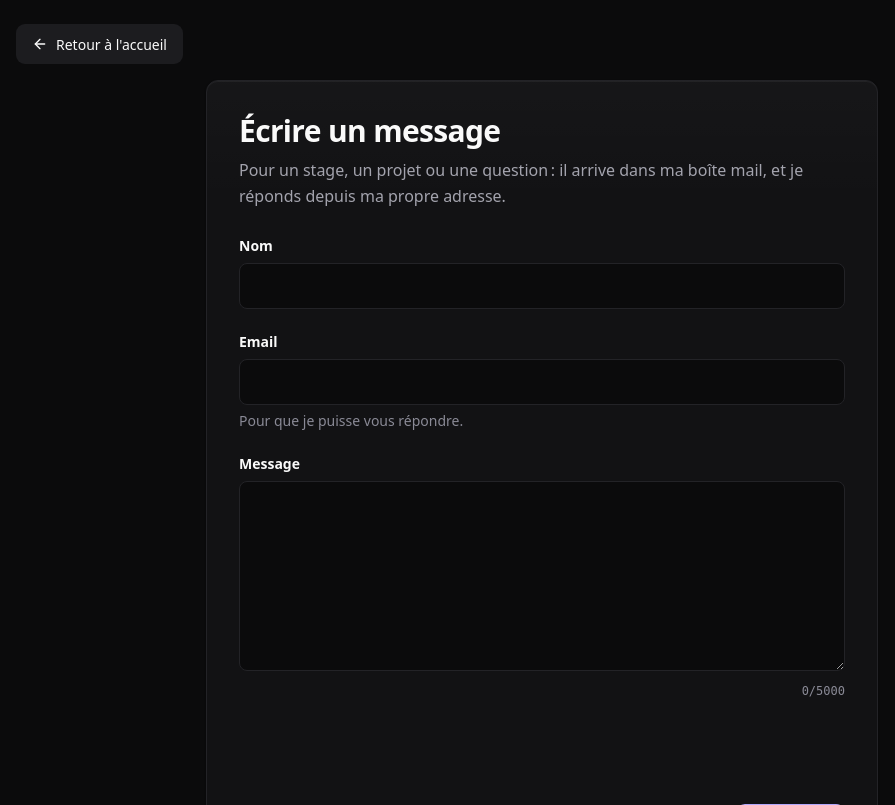
Test: ContactPage › propose l'adresse email quand l'envoi échoue
Type "Ada Lovelace" into the field labelled "Nom" at (542, 286), box [239,263,845,309]
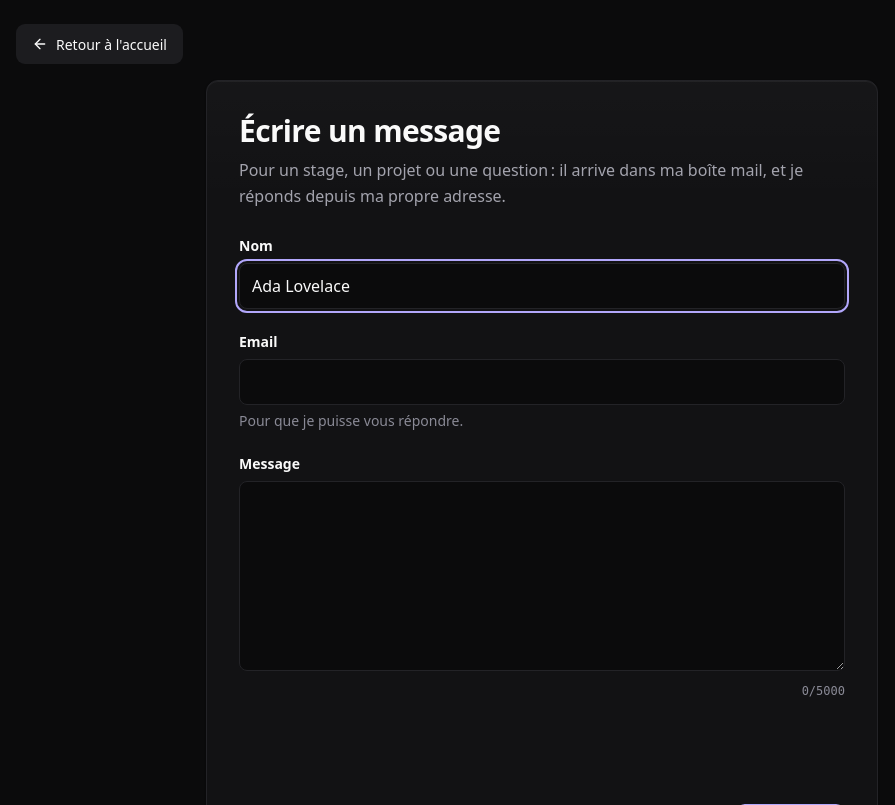
Type "ada@example.com" into the field labelled "Email" at (542, 382), box [239,359,845,405]
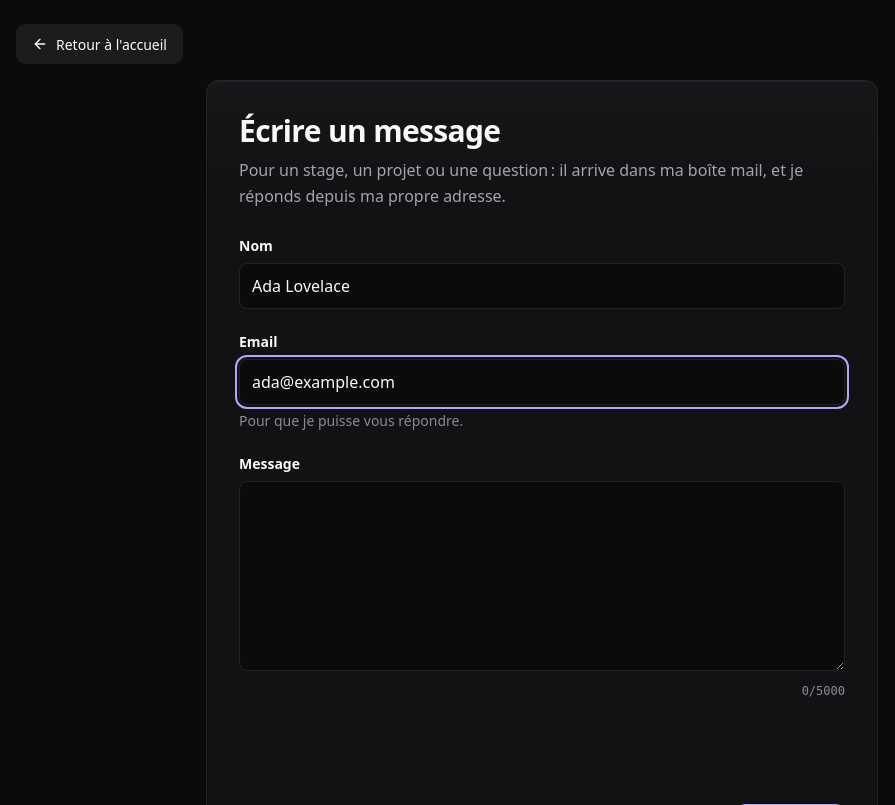
Type "Bonjour, parlons d'un stage en janvier." into the text box labelled "Message" at (542, 576), box [239,481,845,671]
(page scrolled)
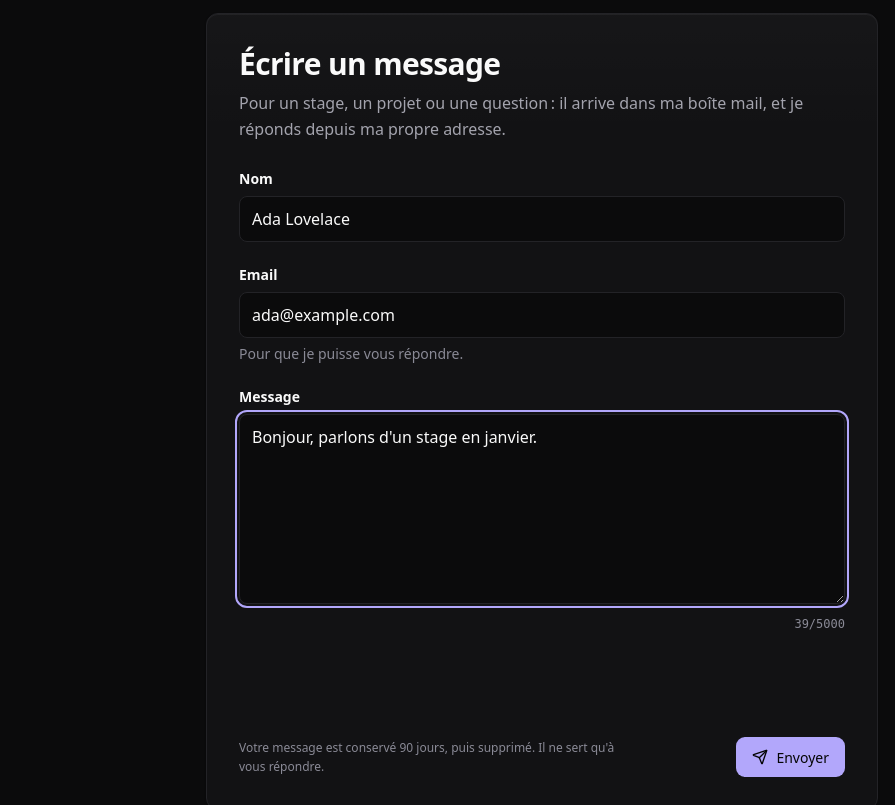
Click the button "Envoyer" at (791, 757), box [736,737,845,777]
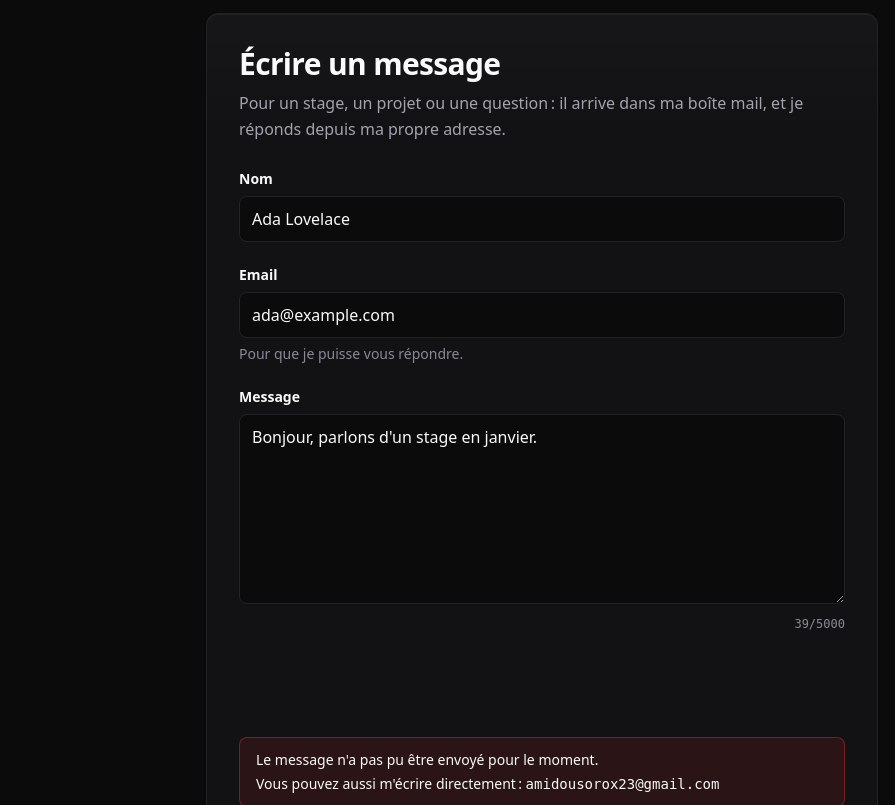
Expected: the message shows "n'a pas pu être envoyé", [256,750,598,769]
